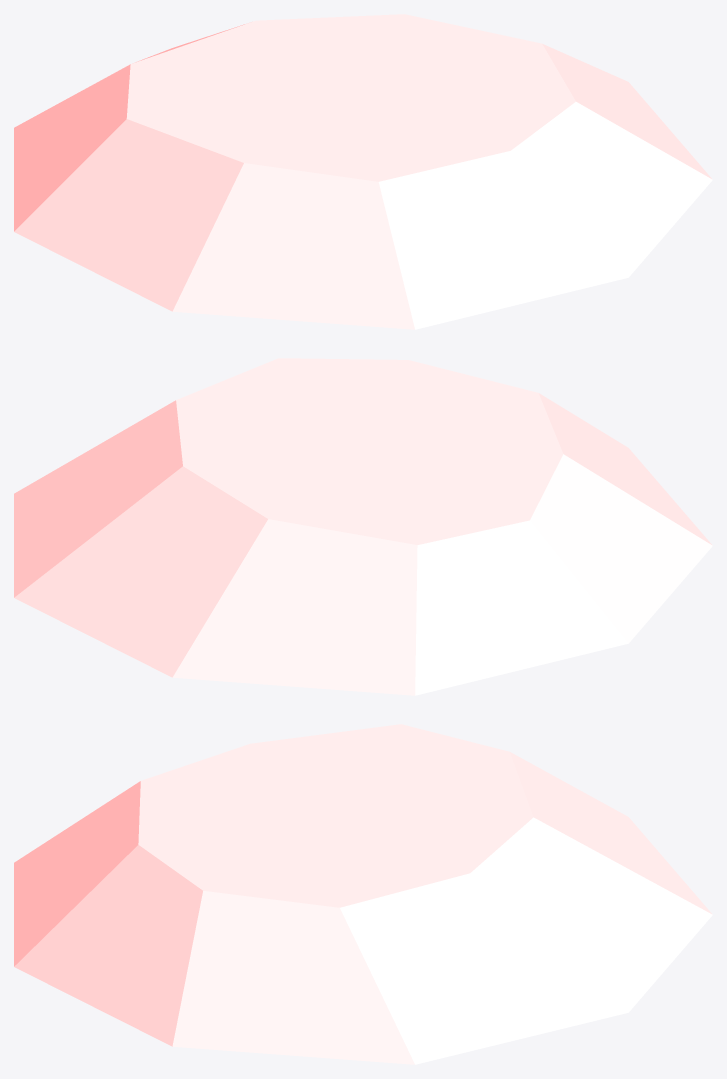
Rendered from red.glb.
3 views of the same model, one above another, from view 1: azimuth 30°, elevation 25°; view 2: azimuth 150°, elevation 25°; view 3: azimuth 270°, elevation 25° (orthographic).
Visible parts, largest first — view 1: Cylinder; view 2: Cylinder; view 3: Cylinder.
Part boxes in pixels (x1,y1,x2,y2): Cylinder: (14, 14, 712, 329); Cylinder: (14, 358, 712, 695); Cylinder: (14, 724, 712, 1064).
Size of the model in its own units: 21.61 by 3.25 by 21.28.
